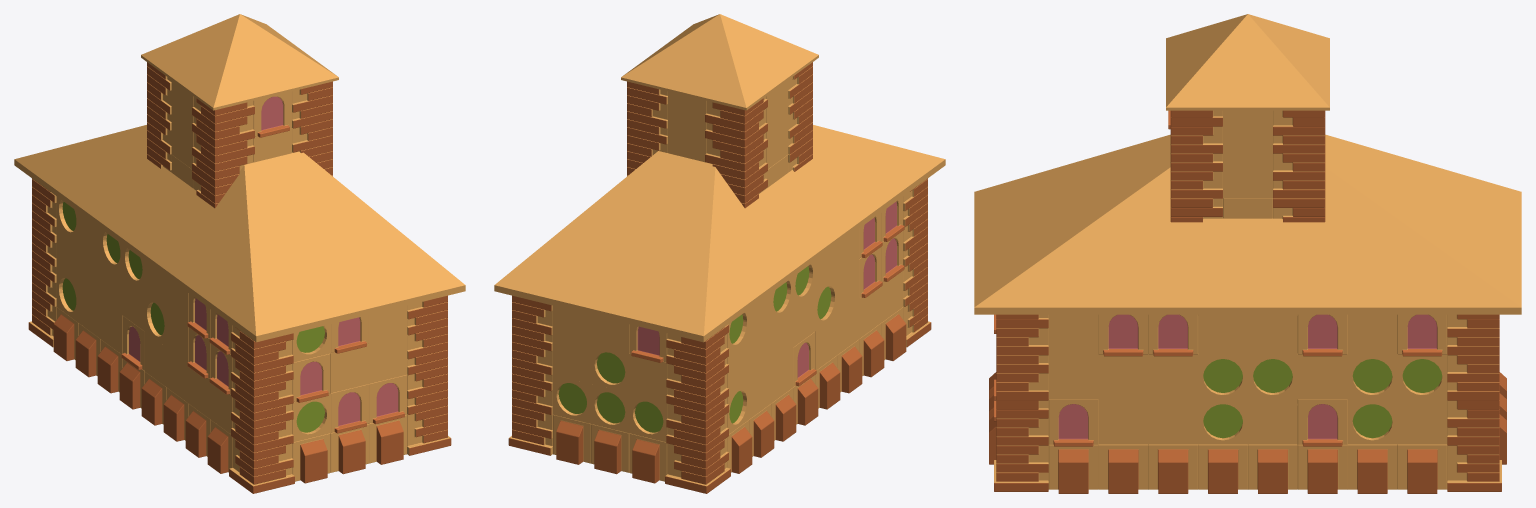
File: house v3.010.fbx
3 renders of one model, left to right at view 1: azimuth 30°, elevation 25°; view 2: azimuth 150°, elevation 25°; view 3: azimuth 270°, elevation 25°, orthographic. The views are drawn at different scales.
Parts seen in each view (by area): view 1: House; view 2: House; view 3: House.
Part boxes in pixels (x1=…): House: x1=14, y1=14, x2=465, y2=493; House: x1=494, y1=14, x2=945, y2=493; House: x1=974, y1=14, x2=1521, y2=493.
Bounding box in the file's own units: 549 × 937 × 1099.
